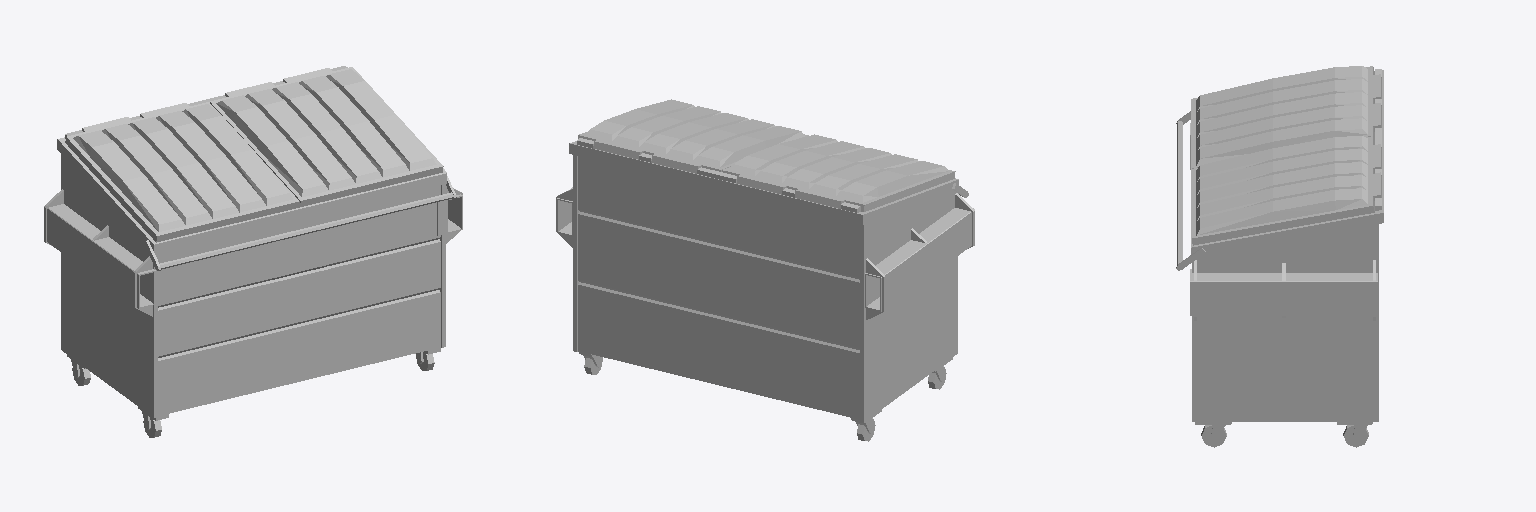
File: prop_dumpster_01a.obj
3 views of the same model, side by side, from view 1: azimuth 30°, elevation 25°; view 2: azimuth 150°, elevation 25°; view 3: azimuth 270°, elevation 25° (orthographic).
Size of the model in its own units: 2.02 by 1.46 by 1.11.